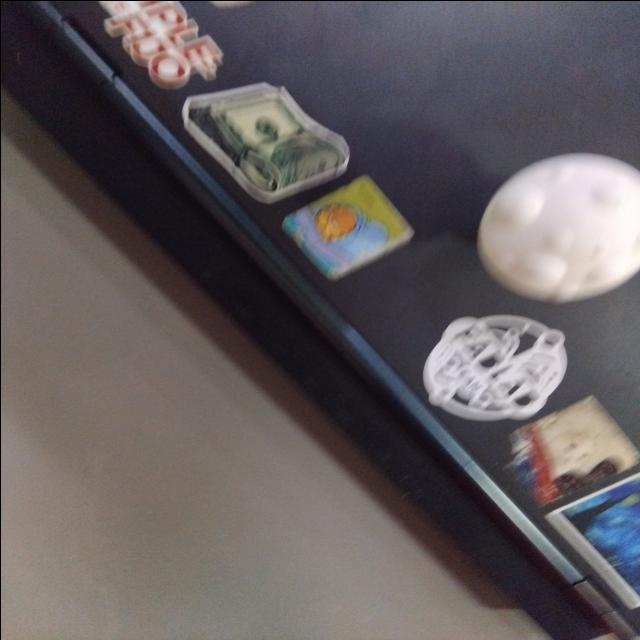Hongo: (467, 146, 640, 302)
